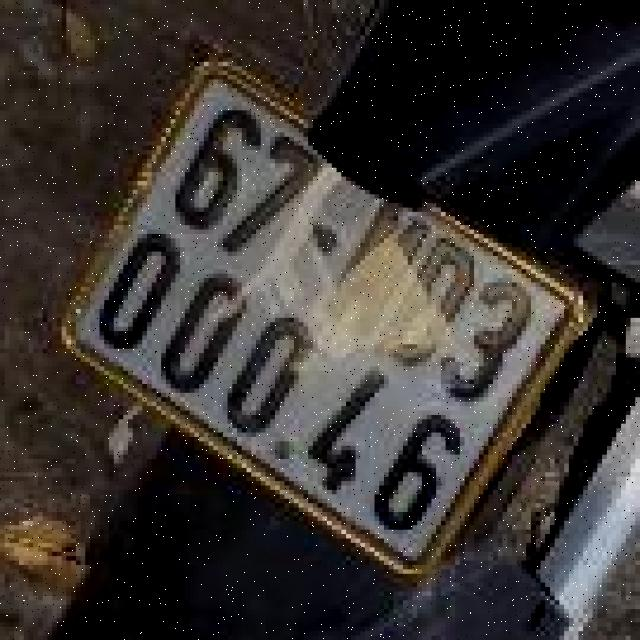0: (144, 255, 279, 419), (74, 213, 205, 373), (211, 315, 325, 446)
3: (417, 257, 542, 419)
4: (288, 356, 400, 504)
6: (359, 377, 484, 548), (150, 95, 268, 254)
7: (210, 118, 339, 277)
D: (365, 232, 479, 385)
M: (316, 192, 440, 353)
